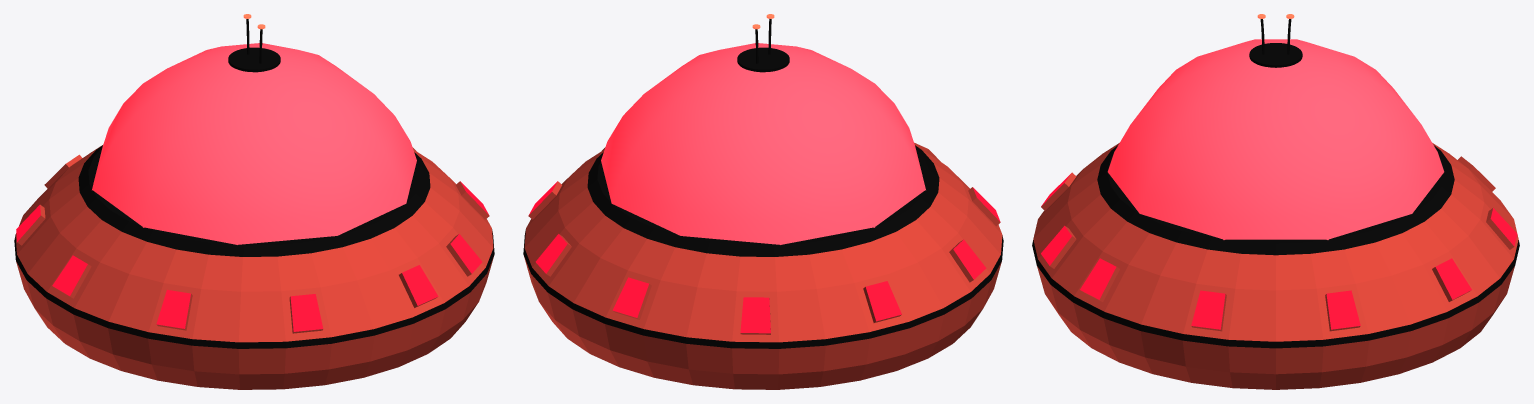
Rendered from red ship.fbx.
3 views of the same model, side by side, from view 1: azimuth 30°, elevation 25°; view 2: azimuth 150°, elevation 25°; view 3: azimuth 270°, elevation 25° (orthographic).
Visible parts, largest first — view 1: Circle, Sphere red emission, Circle.001; view 2: Circle, Sphere red emission, Circle.001; view 3: Circle, Sphere red emission, Circle.001.
Boxes of the visible parts, bbox=[...] form: Circle: bbox=[14, 145, 494, 389]; Sphere red emission: bbox=[92, 43, 416, 244]; Circle.001: bbox=[228, 47, 280, 72]; Circle: bbox=[523, 142, 1003, 389]; Sphere red emission: bbox=[601, 43, 925, 244]; Circle.001: bbox=[737, 47, 789, 72]; Circle: bbox=[1032, 143, 1519, 389]; Sphere red emission: bbox=[1107, 39, 1444, 239]; Circle.001: bbox=[1249, 43, 1302, 67].
Size of the model in its own units: 183 by 133 by 183.
